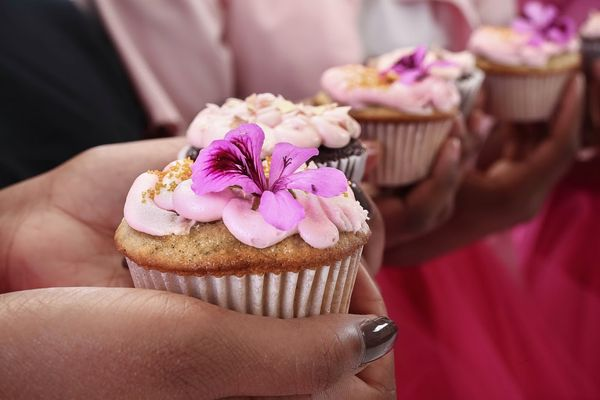sushi: (114, 90, 374, 317), (319, 39, 484, 186), (467, 20, 584, 121)
